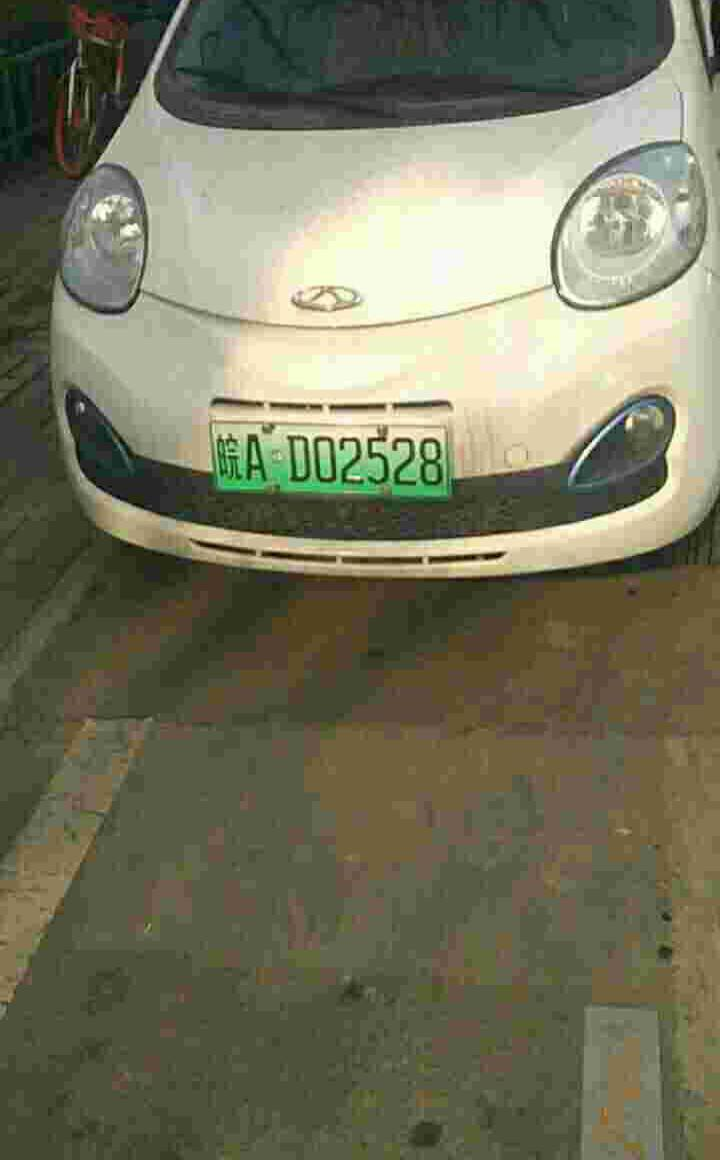car: (210, 419, 461, 502)
